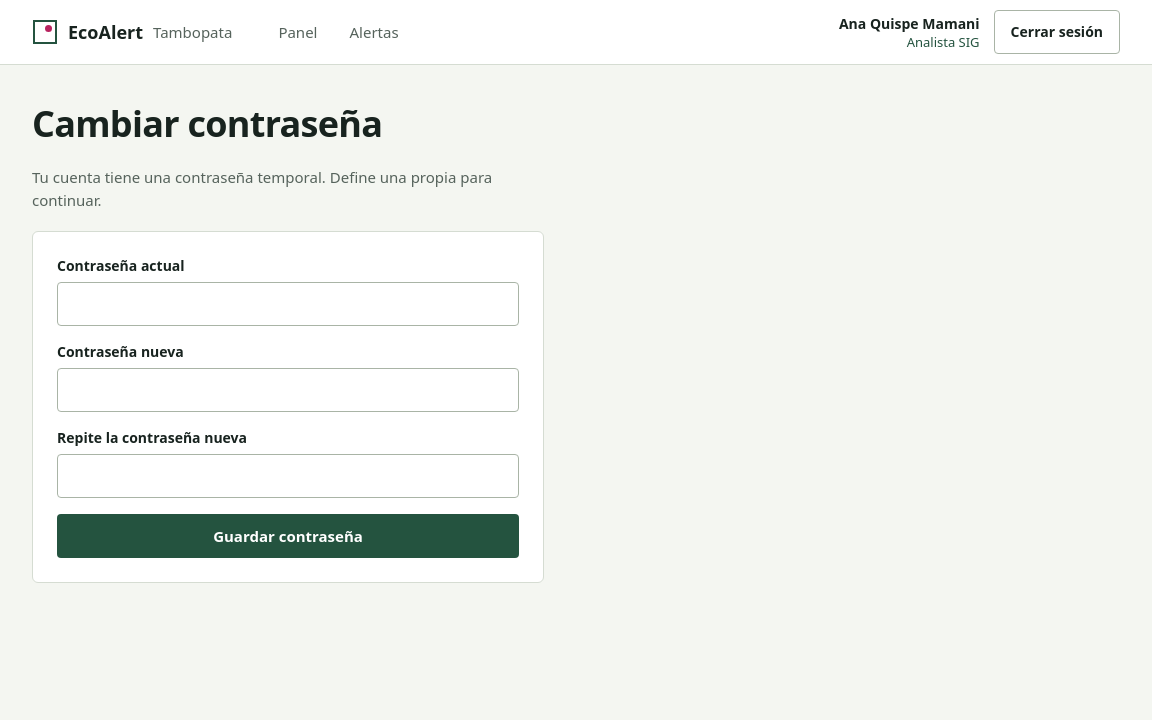
Scenario: CambiarPasswordPage (RF-02-AC-4) › valida en el cliente la longitud y la confirmación
Type "Temporal-2026!" into the password field labelled "Contraseña actual" at (288, 304), box left=57, top=282, right=519, bottom=326
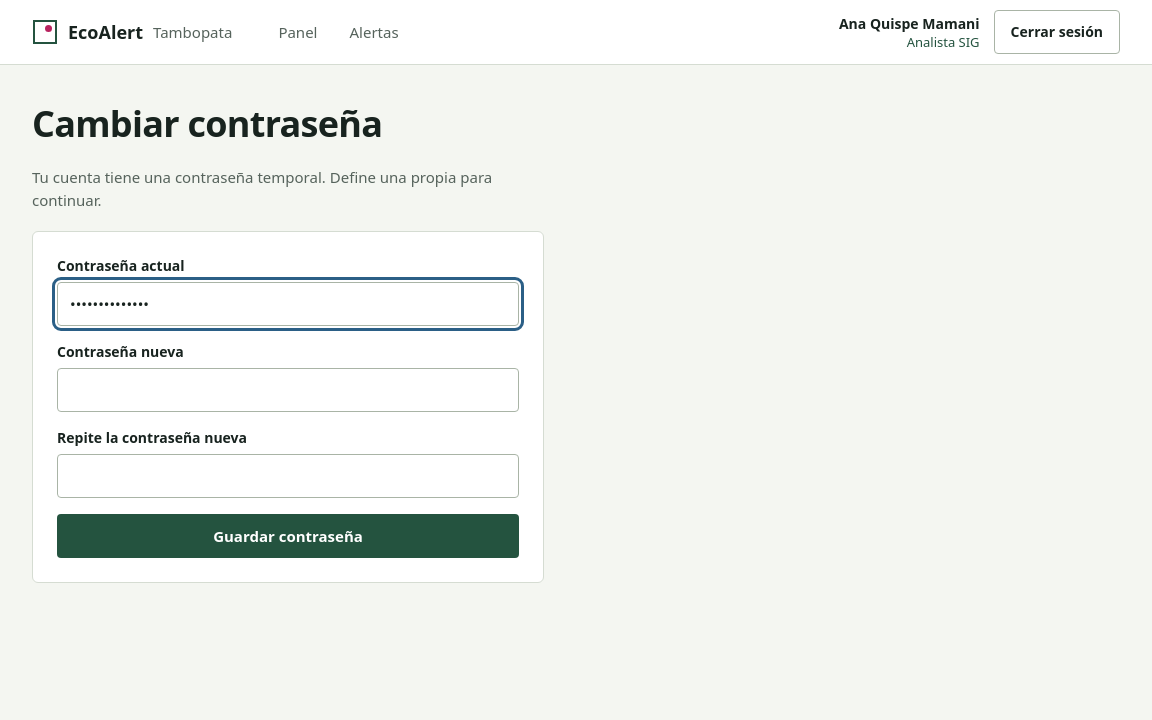
Type "corta" into the password field labelled "Contraseña nueva" at (288, 390), box left=57, top=368, right=519, bottom=412
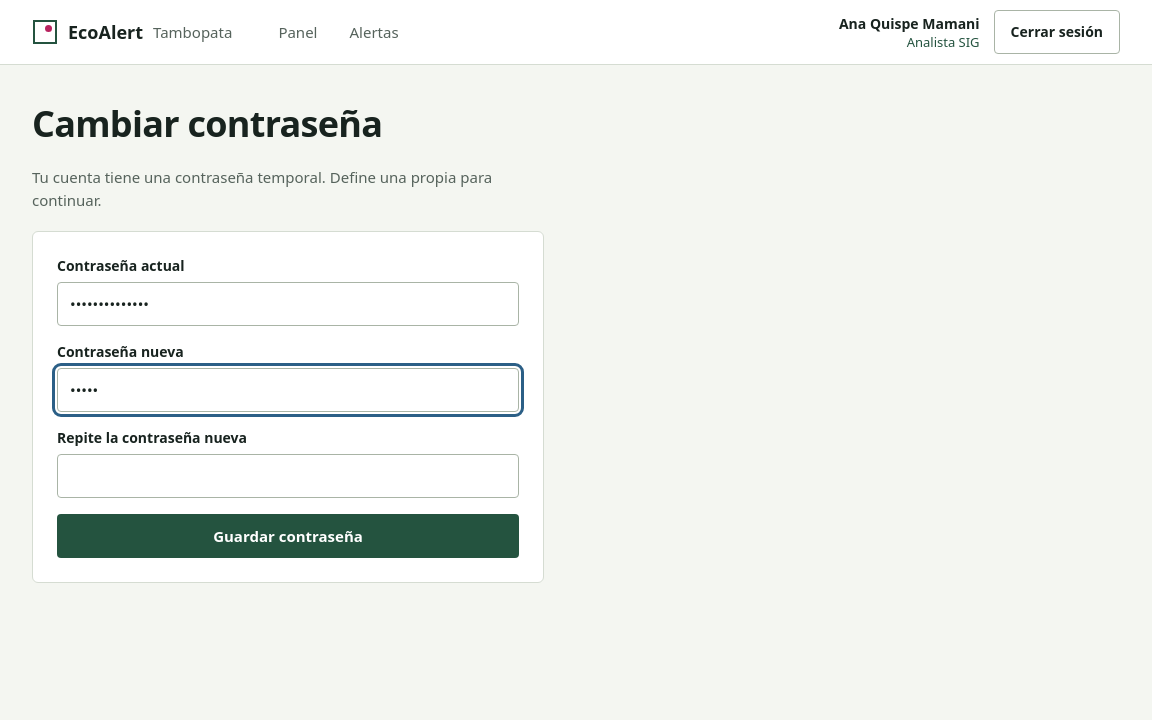
Type "otra" into the password field labelled "Repite la contraseña nueva" at (288, 476), box left=57, top=454, right=519, bottom=498
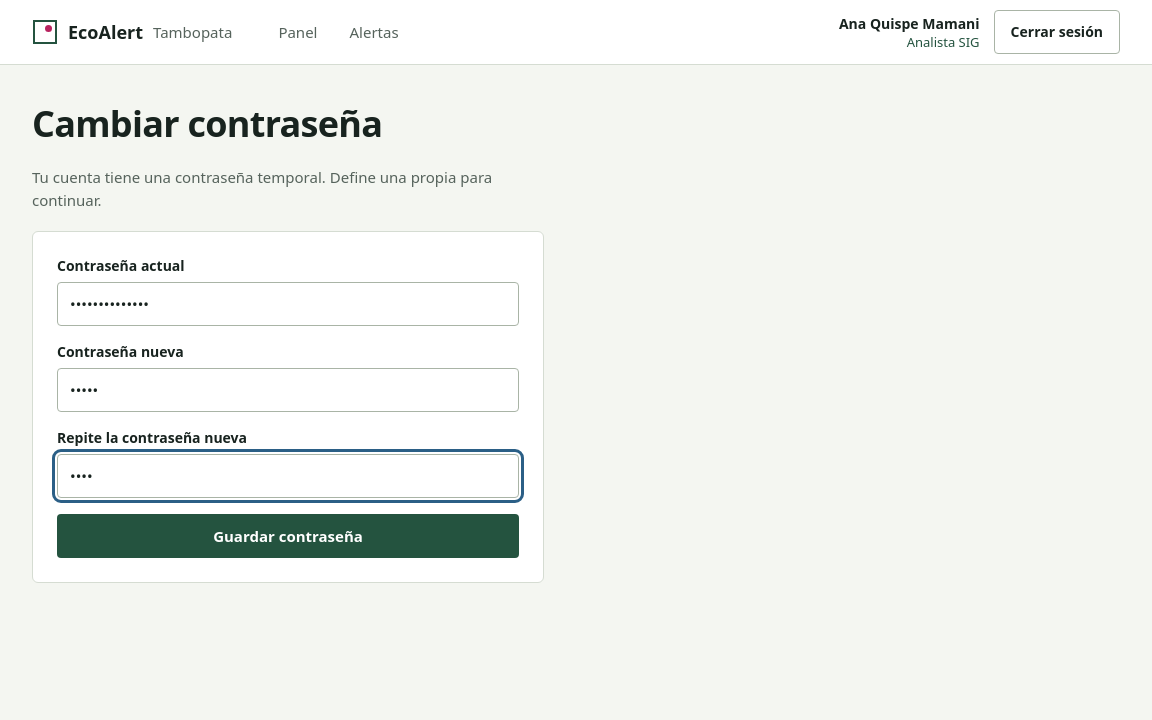
Click the button "Guardar contraseña" at (288, 536), box left=57, top=514, right=519, bottom=558
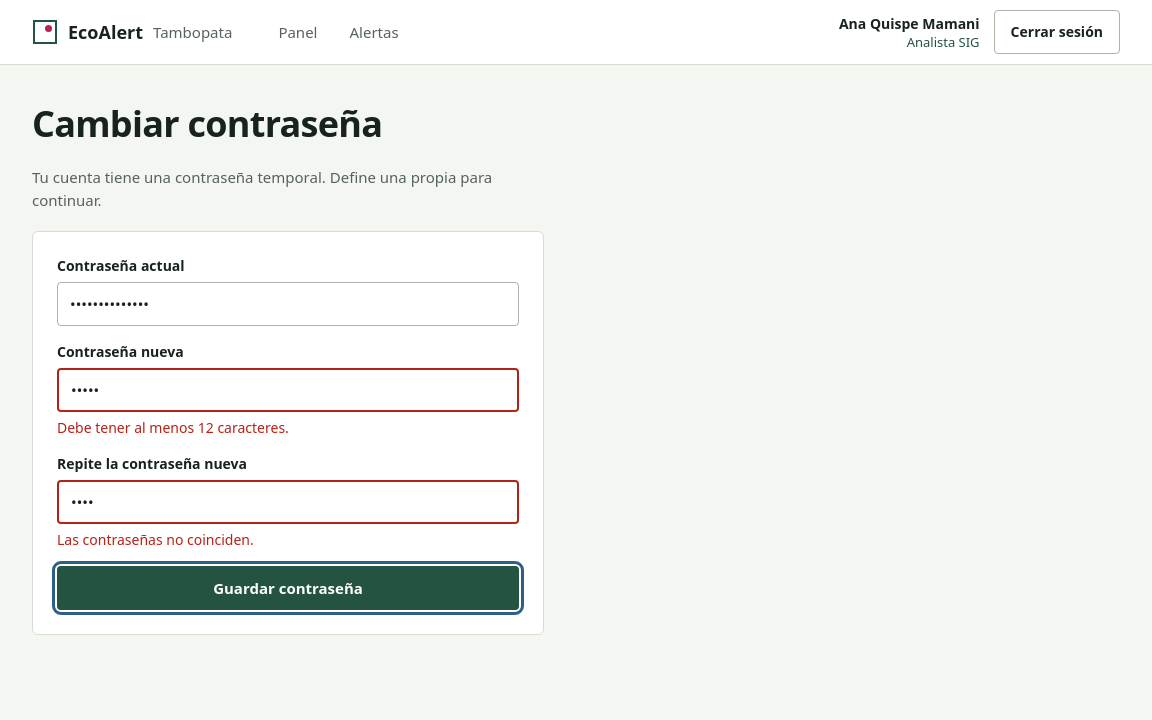
Expected: the text "Debe tener al menos 12 caracteres." is shown, left=57, top=418, right=289, bottom=437
Expected: the text "Las contraseñas no coinciden." is shown, left=57, top=530, right=254, bottom=549
